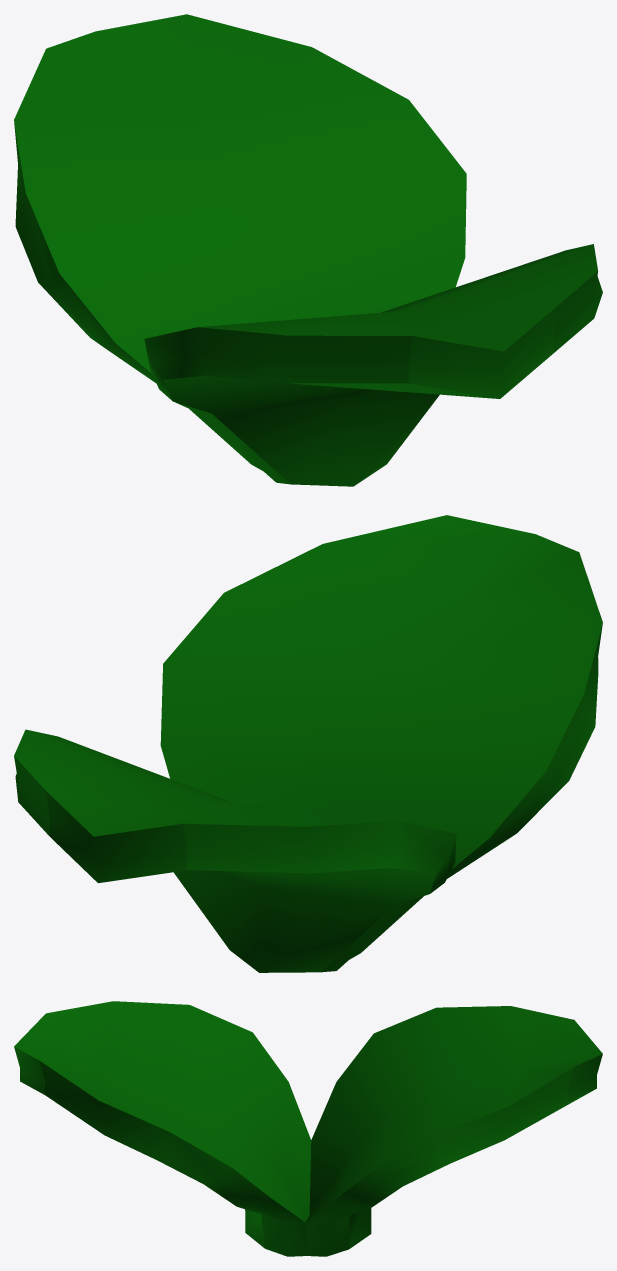
File: seed.fbx
3 views of the same model, one above another, from view 1: azimuth 30°, elevation 25°; view 2: azimuth 150°, elevation 25°; view 3: azimuth 270°, elevation 25° (orthographic). The views are drawn at different scales.
Visible parts, largest first — view 1: seed_leaf6; view 2: seed_leaf6; view 3: seed_leaf6.
Boxes of the visible parts, box(x1,y1,x2,y2) form: seed_leaf6: box(14, 14, 602, 486); seed_leaf6: box(14, 515, 602, 972); seed_leaf6: box(14, 1001, 602, 1256).
Size of the model in its own units: 3.2 by 2.14 by 5.77.
